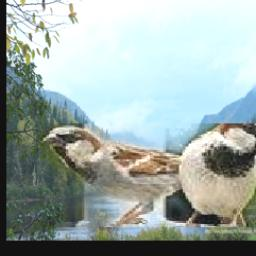Sparrow: (38, 124, 256, 228)
